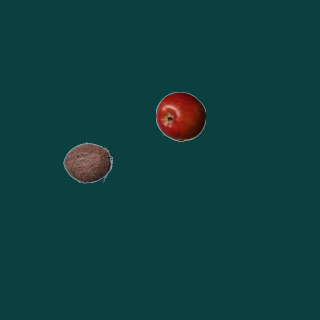Apple Braeburn: (155, 91, 205, 141)
Cocos: (62, 137, 112, 187)
